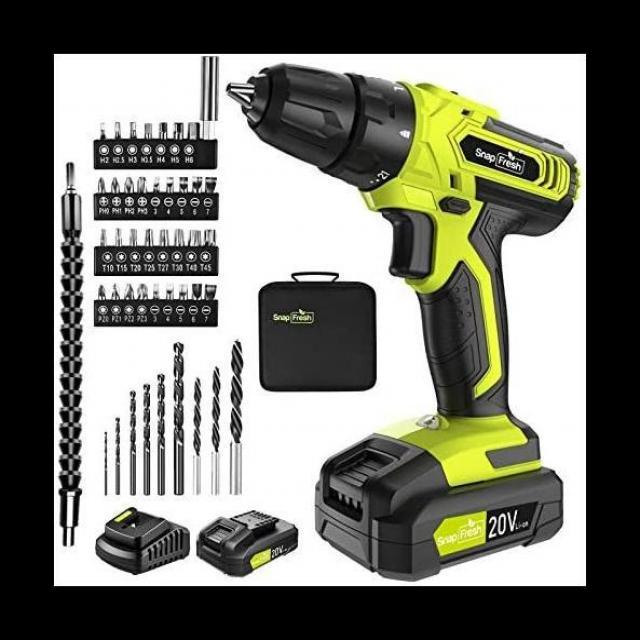drill: (226, 63, 583, 582), (195, 510, 298, 578), (96, 507, 192, 575)
